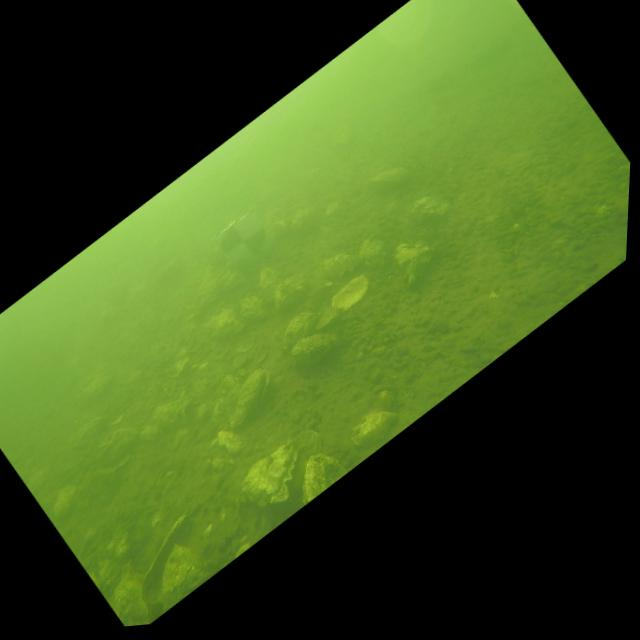Oyster-Closed: (237, 434, 298, 507), (302, 453, 347, 504), (229, 366, 264, 427), (92, 428, 138, 467), (395, 240, 434, 283), (114, 579, 148, 626), (352, 411, 397, 445), (291, 333, 336, 366), (282, 312, 319, 348), (153, 396, 194, 428), (273, 276, 306, 312), (204, 307, 243, 336), (316, 251, 361, 275), (413, 196, 449, 216), (53, 484, 76, 515), (240, 295, 268, 319), (370, 166, 408, 182), (359, 235, 380, 259), (259, 266, 278, 288), (291, 209, 314, 227)
Oyster-Indeterminate: (164, 545, 216, 608), (211, 372, 242, 426), (193, 271, 228, 301), (78, 372, 114, 398), (27, 466, 49, 495)
Oyster-Open: (141, 515, 191, 596), (316, 274, 368, 328)
